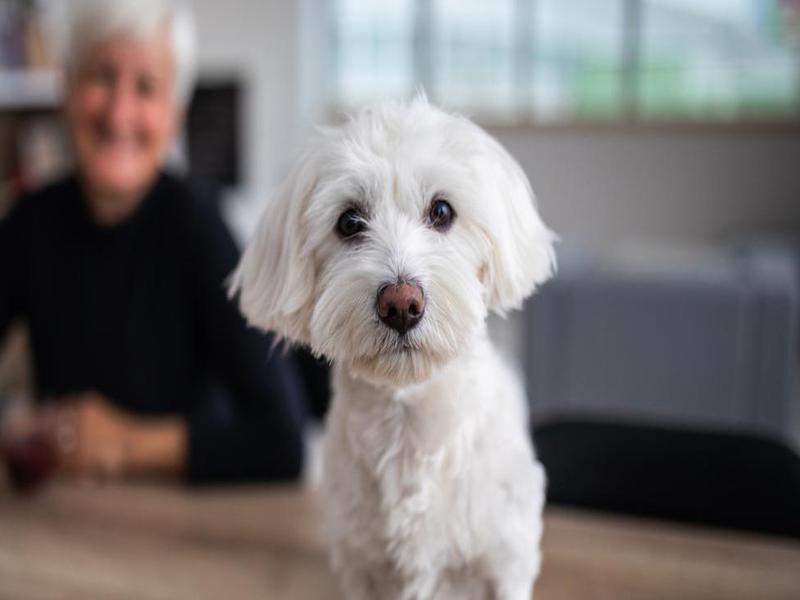dog: (216, 86, 567, 600)
